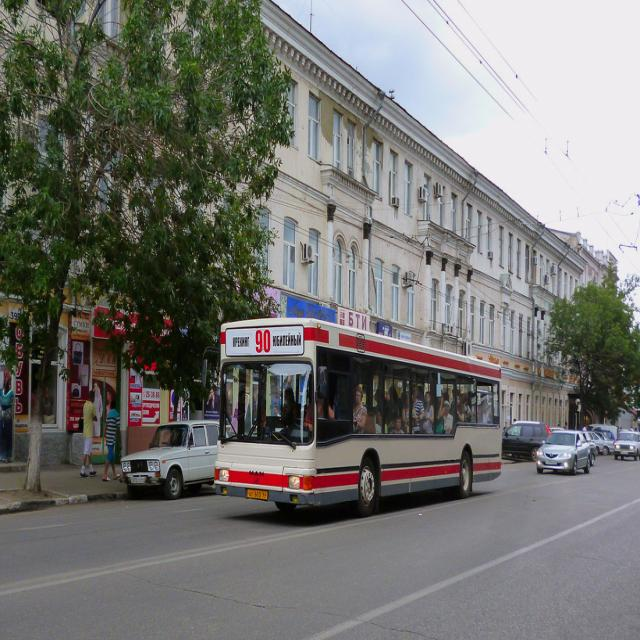number-of-bus: (254, 329, 273, 357)
